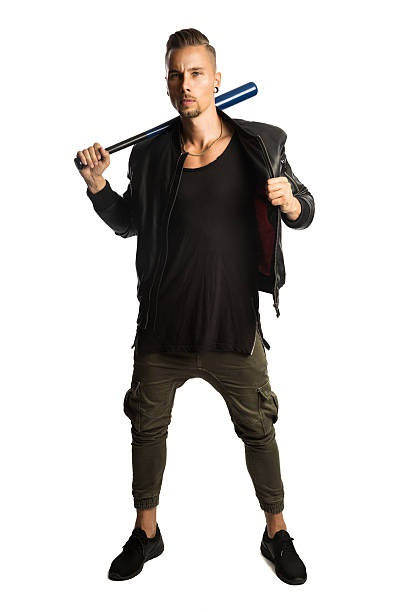bita: (68, 116, 181, 167), (215, 83, 258, 116)
